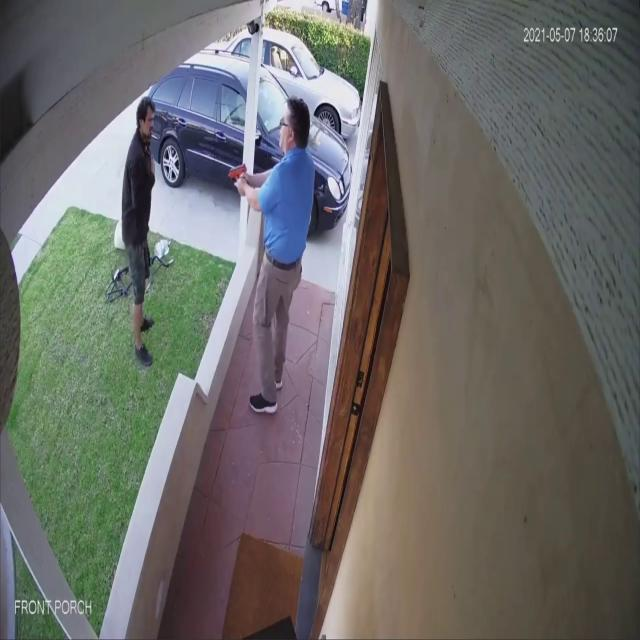gun: (228, 165, 248, 198)
